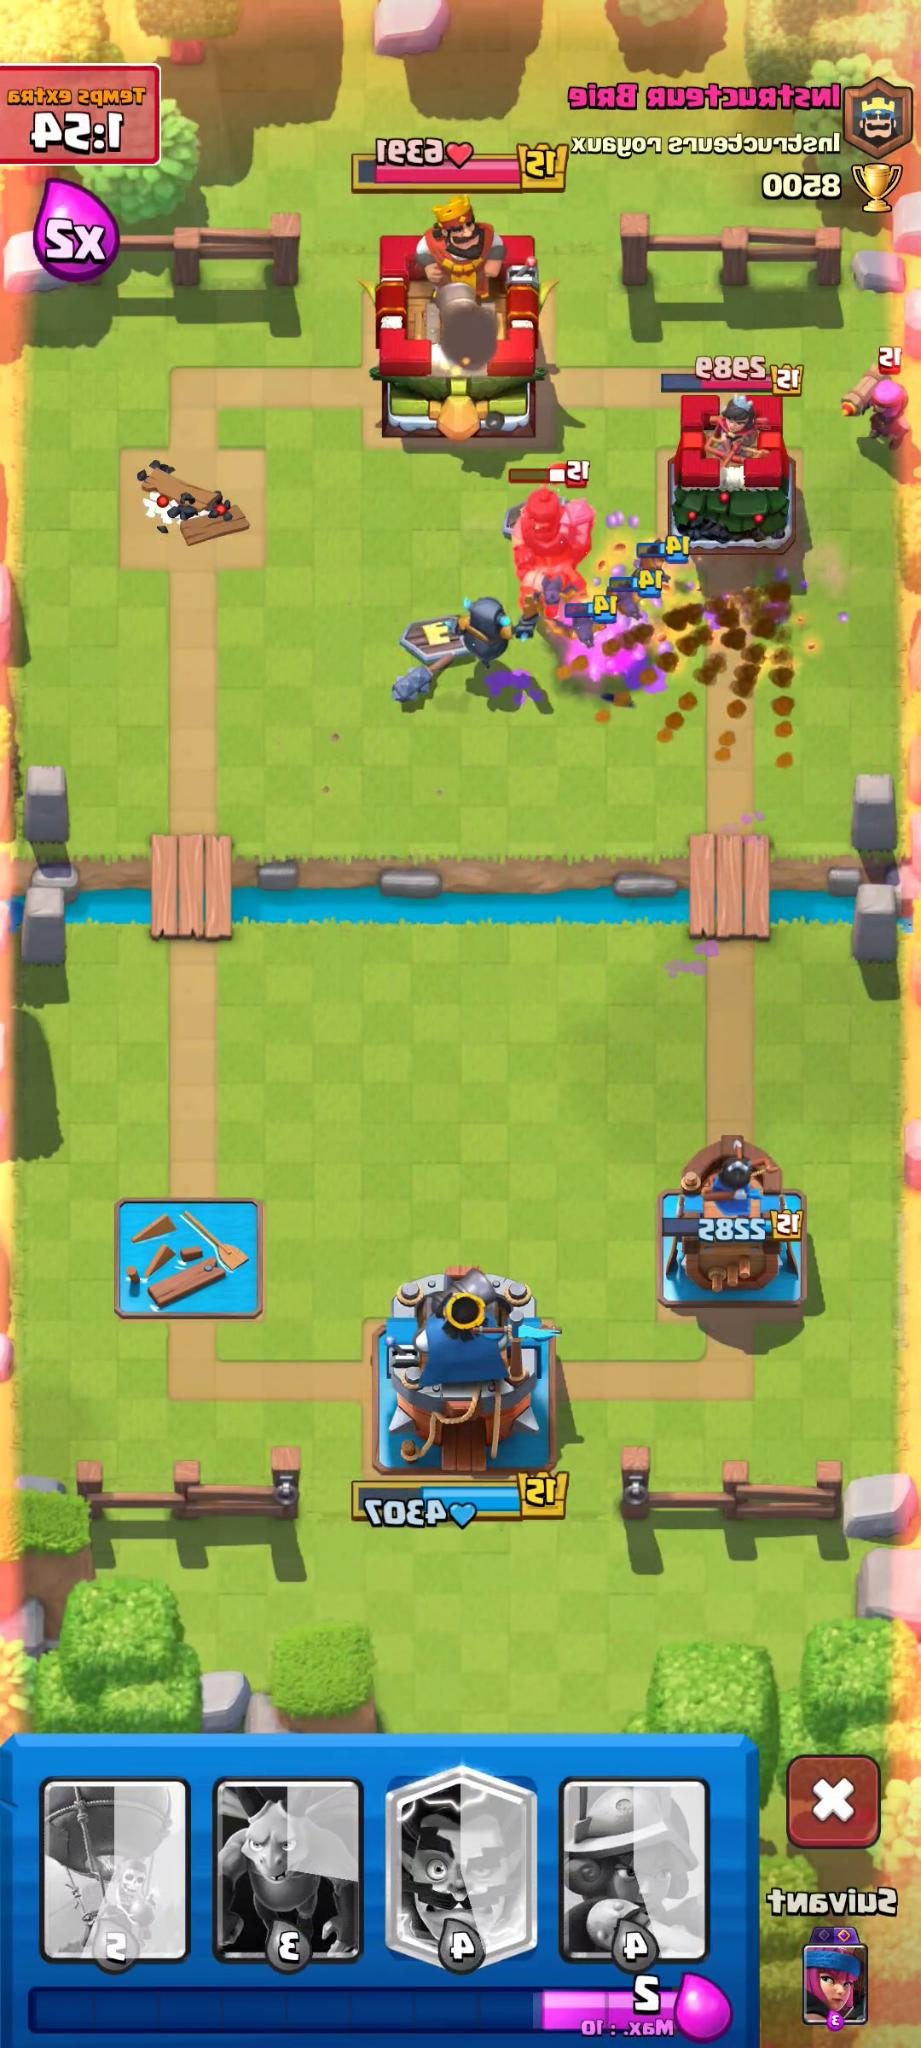bat: (549, 592, 626, 660), (639, 543, 699, 586), (597, 575, 651, 618)
mini_PEKKA: (443, 586, 532, 683)
